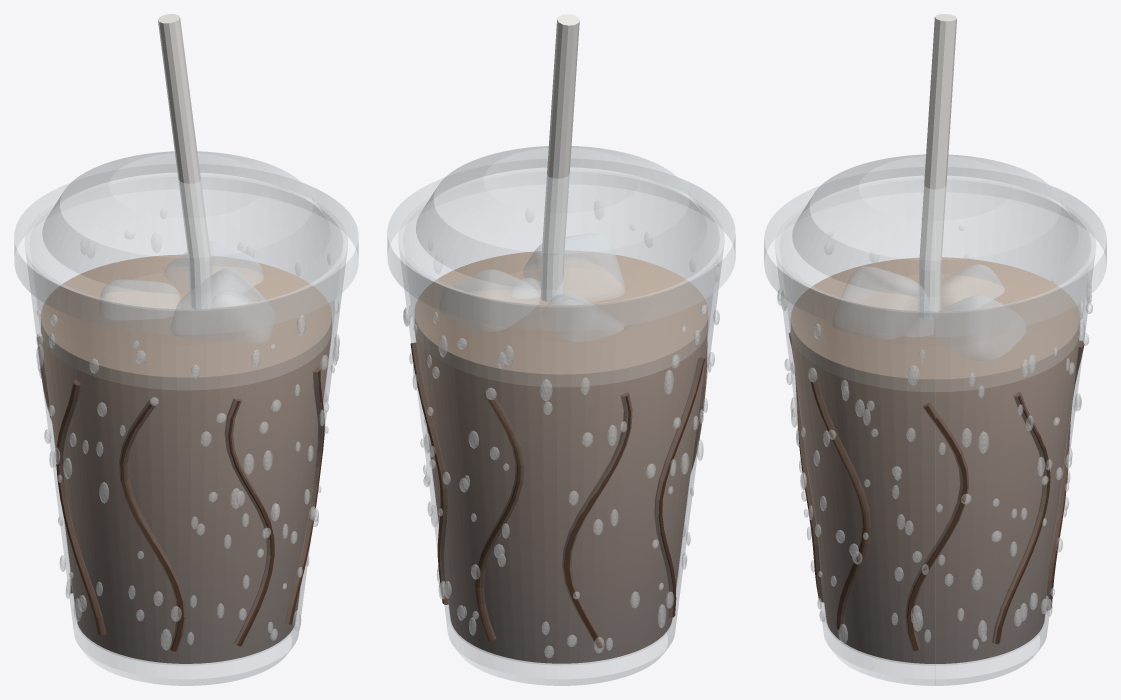
File: iced_cafe_mocha.glb
3 views of the same model, side by side, from view 1: azimuth 30°, elevation 25°; view 2: azimuth 150°, elevation 25°; view 3: azimuth 270°, elevation 25° (orthographic).
Visible parts, largest first — view 1: iced_cafe_mocha__cup_1, iced_cafe_mocha__drink_2, iced_cafe_mocha__lid_7, iced_cafe_mocha__foam_5, iced_cafe_mocha__choc_syrup_3, iced_cafe_mocha__condensation_6, iced_cafe_mocha__ice_4, iced_cafe_mocha__straw_8; view 2: iced_cafe_mocha__cup_1, iced_cafe_mocha__drink_2, iced_cafe_mocha__lid_7, iced_cafe_mocha__foam_5, iced_cafe_mocha__choc_syrup_3, iced_cafe_mocha__condensation_6, iced_cafe_mocha__ice_4, iced_cafe_mocha__straw_8; view 3: iced_cafe_mocha__cup_1, iced_cafe_mocha__drink_2, iced_cafe_mocha__lid_7, iced_cafe_mocha__foam_5, iced_cafe_mocha__choc_syrup_3, iced_cafe_mocha__condensation_6, iced_cafe_mocha__ice_4, iced_cafe_mocha__straw_8.
Part boxes in pixels (bbox=[...]): iced_cafe_mocha__cup_1: bbox=[25, 175, 347, 685]; iced_cafe_mocha__drink_2: bbox=[42, 334, 331, 663]; iced_cafe_mocha__lid_7: bbox=[14, 151, 358, 334]; iced_cafe_mocha__foam_5: bbox=[41, 254, 331, 390]; iced_cafe_mocha__choc_syrup_3: bbox=[37, 336, 324, 651]; iced_cafe_mocha__condensation_6: bbox=[36, 209, 339, 650]; iced_cafe_mocha__ice_4: bbox=[100, 242, 273, 343]; iced_cafe_mocha__straw_8: bbox=[158, 14, 212, 310]; iced_cafe_mocha__cup_1: bbox=[398, 169, 724, 685]; iced_cafe_mocha__drink_2: bbox=[415, 331, 707, 663]; iced_cafe_mocha__lid_7: bbox=[387, 146, 735, 330]; iced_cafe_mocha__foam_5: bbox=[414, 250, 708, 387]; iced_cafe_mocha__choc_syrup_3: bbox=[410, 341, 707, 648]; iced_cafe_mocha__condensation_6: bbox=[403, 199, 719, 657]; iced_cafe_mocha__ice_4: bbox=[440, 233, 624, 341]; iced_cafe_mocha__straw_8: bbox=[540, 14, 579, 302]; iced_cafe_mocha__cup_1: bbox=[775, 178, 1095, 685]; iced_cafe_mocha__drink_2: bbox=[791, 338, 1078, 663]; iced_cafe_mocha__lid_7: bbox=[764, 154, 1106, 336]; iced_cafe_mocha__foam_5: bbox=[790, 257, 1080, 392]; iced_cafe_mocha__choc_syrup_3: bbox=[788, 332, 1084, 651]; iced_cafe_mocha__condensation_6: bbox=[777, 226, 1092, 649]; iced_cafe_mocha__ice_4: bbox=[832, 264, 1026, 360]; iced_cafe_mocha__straw_8: bbox=[918, 14, 956, 319].
Size of the model in its own units: 0.098 by 0.1954 by 0.098.
8 materials, 1 textured.
